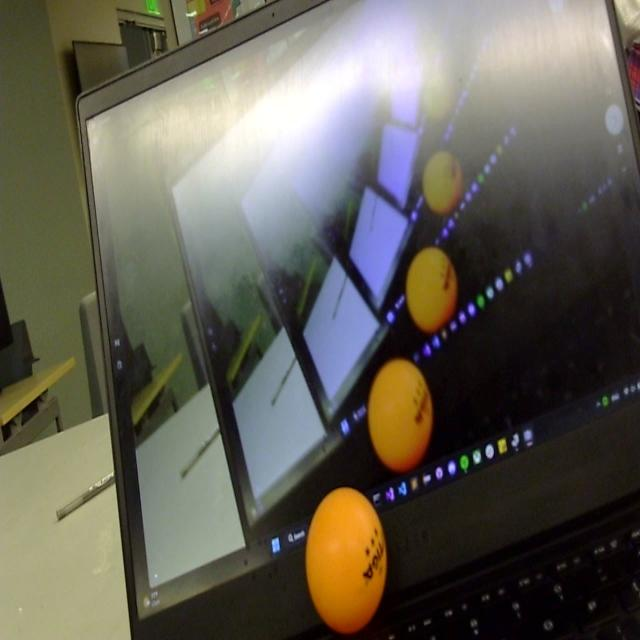ball: (303, 485, 390, 638), (367, 358, 434, 476), (404, 245, 459, 337), (421, 148, 465, 220)
